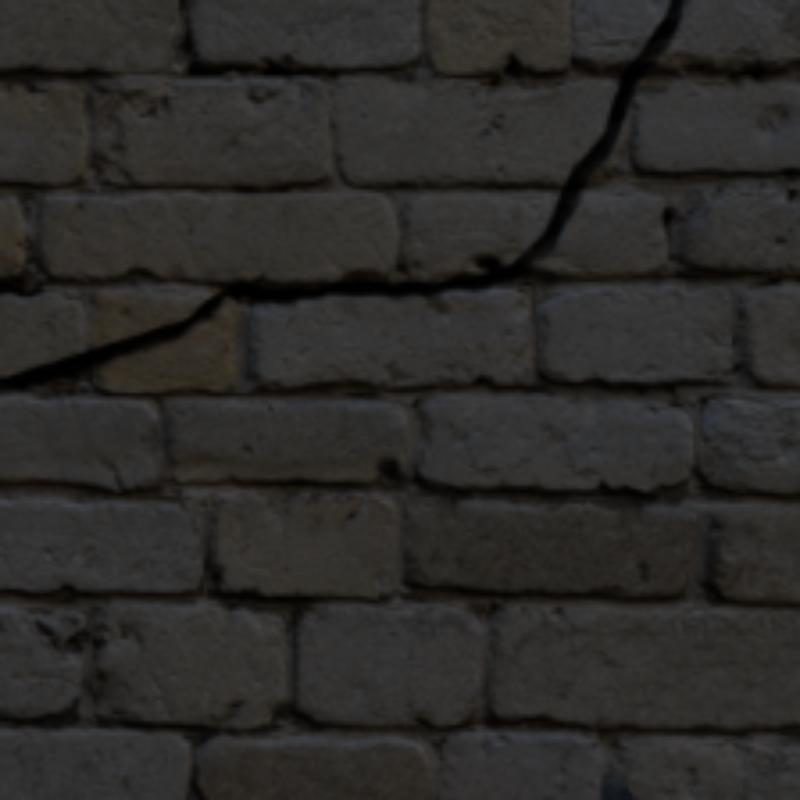pothole: (0, 0, 682, 389)
